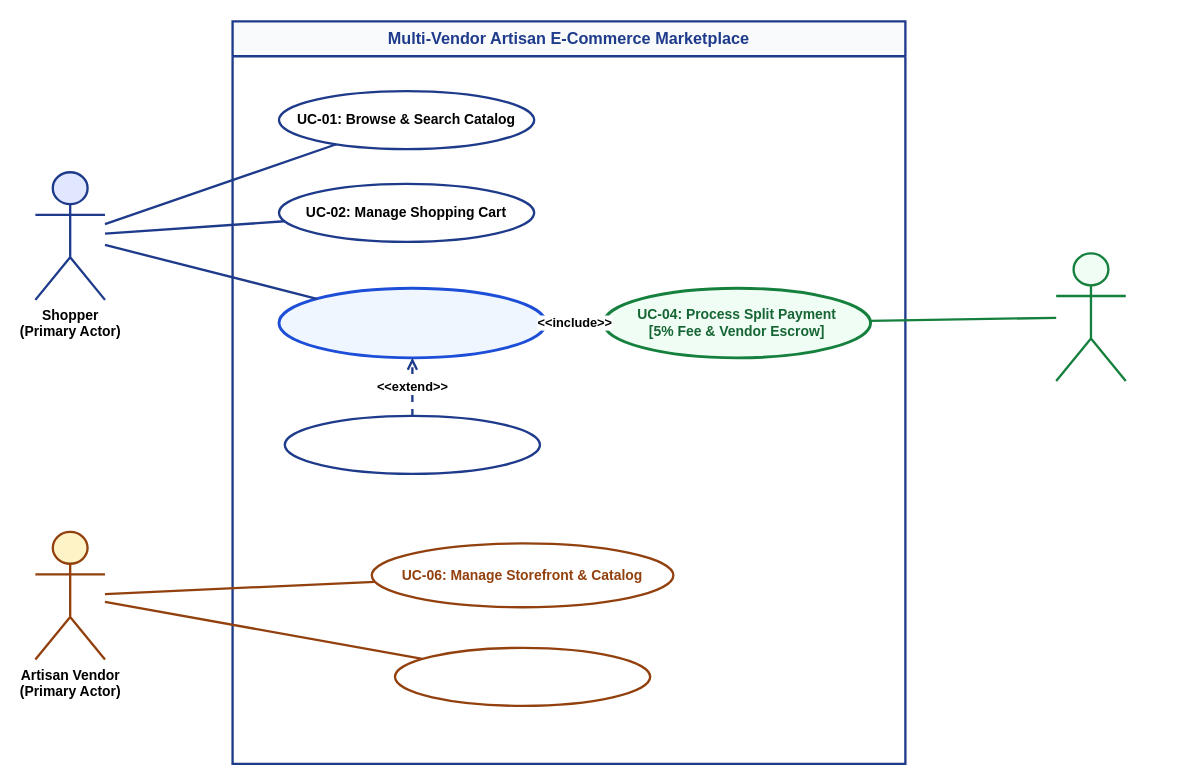
Image size: 1180x784. Some labels were removed from this diagram. The shapes that lost their labels are listed below. From the top down, each one's box as (x1, y1, x2, y2) in pixels, then its label:
(277, 286, 547, 359): UC-03: Place Order [Multi-Vendor Checkout]
(1054, 252, 1126, 382): <<external system>> Payment Gateway (Secondary Actor)
(283, 414, 541, 474): UC-05: Apply Discount Code
(393, 646, 651, 706): UC-07: Fulfill Order
